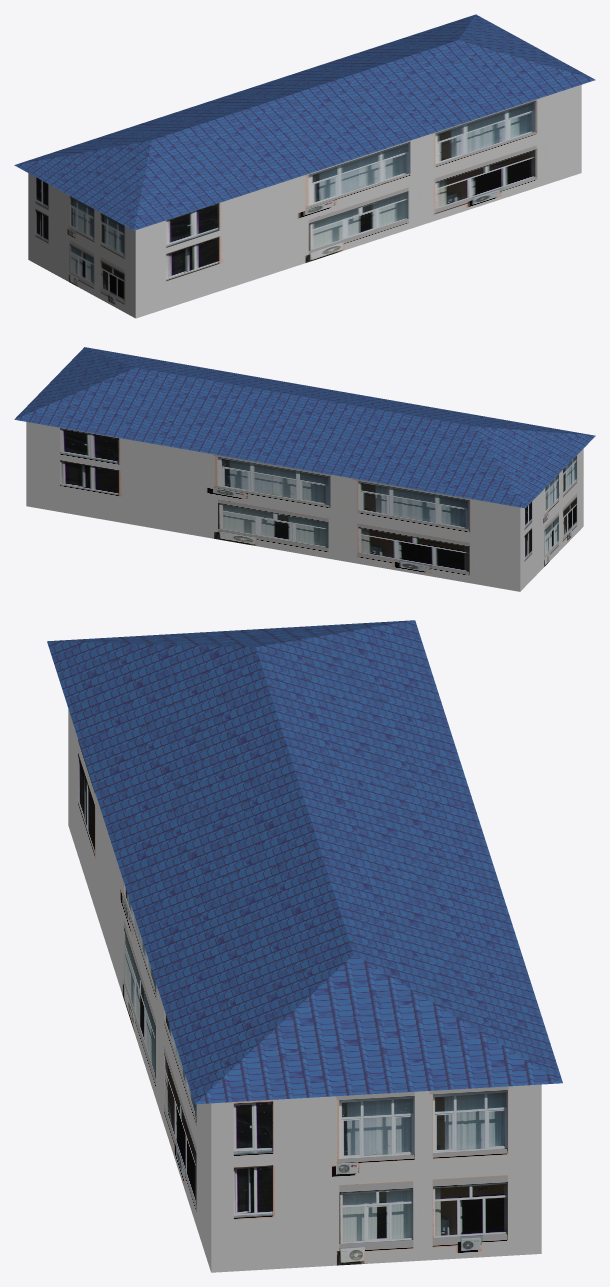
3 renders of one model, top to bottom at view 1: azimuth 30°, elevation 25°; view 2: azimuth 150°, elevation 25°; view 3: azimuth 270°, elevation 25°, orthographic. The views are drawn at different scales.
Visible parts, largest first — view 1: CityEngineMaterial_9_m, CityEngineMaterial_10_m; view 2: CityEngineMaterial_9_m, CityEngineMaterial_10_m; view 3: CityEngineMaterial_10_m, CityEngineMaterial_9_m.
Part boxes in pixels (bbox=[...]): CityEngineMaterial_9_m: bbox=[28, 85, 581, 318]; CityEngineMaterial_10_m: bbox=[14, 14, 595, 230]; CityEngineMaterial_9_m: bbox=[26, 422, 583, 591]; CityEngineMaterial_10_m: bbox=[14, 347, 595, 508]; CityEngineMaterial_10_m: bbox=[47, 620, 562, 1104]; CityEngineMaterial_9_m: bbox=[68, 709, 541, 1272].
Bounding box in the file's own units: 56.21 × 12.93 × 25.33.
